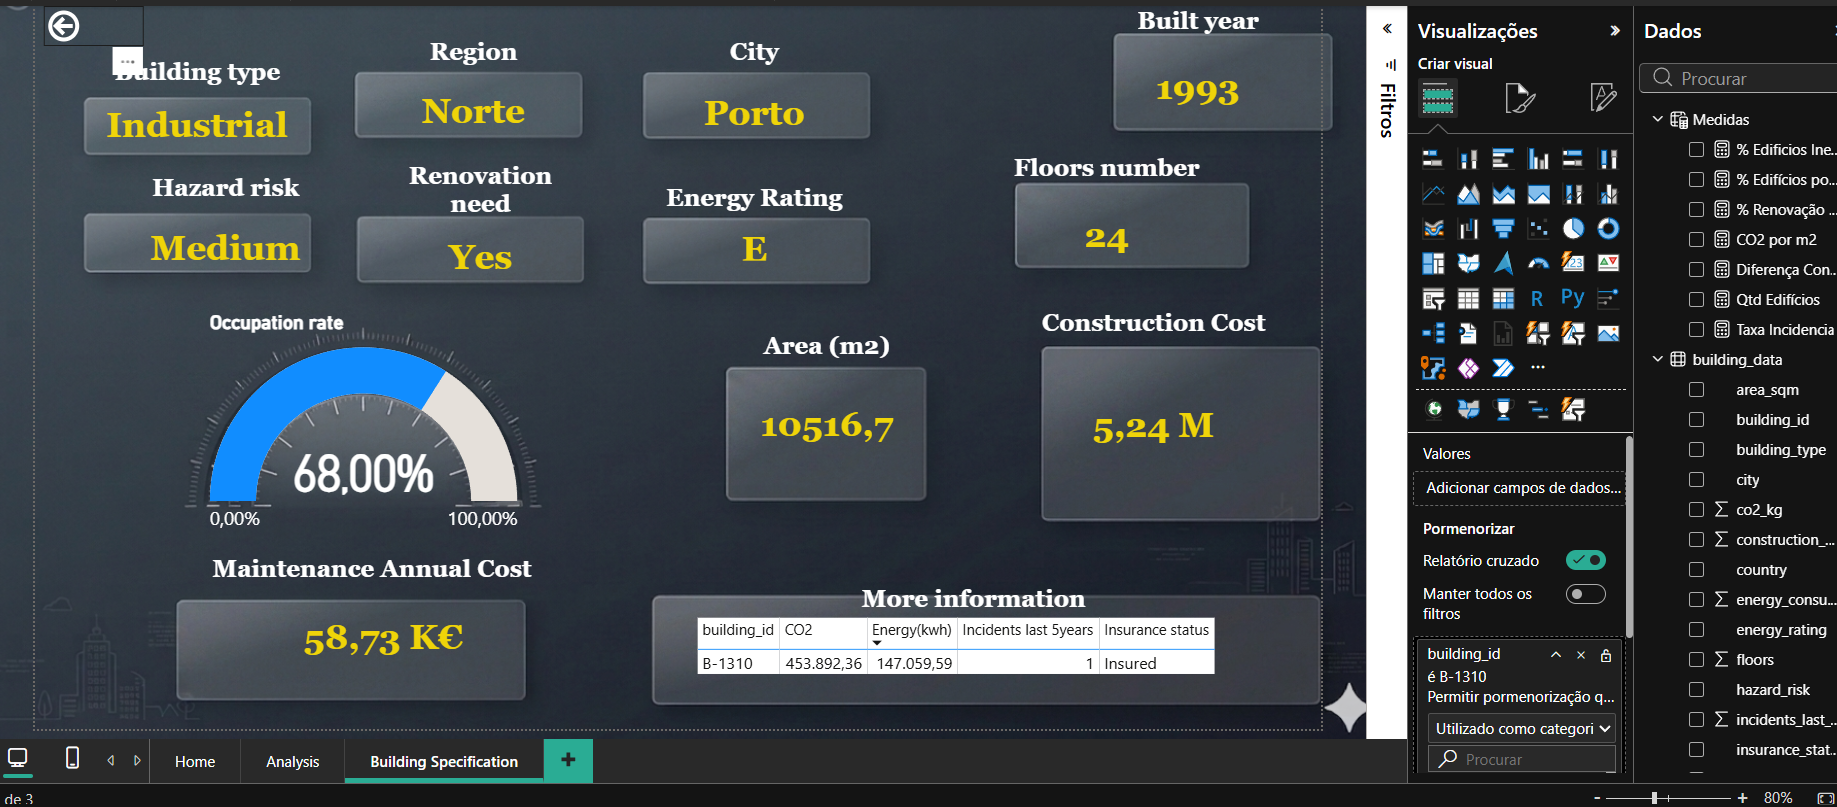

What the dashboard file says about the page in this screenshot:
{"tool":"powerbi","page":{"name":"Building Specification ","canvas":[1280,720],"ordinal":2},"visuals":[{"type":"actionButton","box":[8.7,0,99.5,39.8],"z":0},{"type":"cardVisual","title":"Building type","fields":{"Rows":["building_data.building_type"]},"box":[34.8,51,253.8,144.3],"z":1000},{"type":"cardVisual","title":"Construction Cost","fields":{"Data":["Sum(building_data.construction_cost_eur)"]},"box":[980.2,301,266.2,201.5],"z":2000},{"type":"cardVisual","title":"City","fields":{"Rows":["building_data.city"]},"box":[608.3,31.1,215.2,211.5],"z":3000},{"type":"cardVisual","title":"Energy Rating","fields":{"Rows":["building_data.energy_rating"]},"box":[608.3,176.6,215.2,131.9],"z":4000},{"type":"cardVisual","title":"Floors number","fields":{"Data":["Sum(building_data.floors)"]},"box":[954.1,146.8,225.2,131.9],"z":5000},{"type":"cardVisual","title":"Hazard risk","fields":{"Rows":["building_data.hazard_risk"]},"box":[82.1,166.7,215.2,204],"z":6000},{"type":"cardVisual","title":"Maintenance Annual Cost","fields":{"Data":["Sum(building_data.maintenance_cost_annual_eur)"]},"box":[171.7,546.1,350.8,133.1],"z":7000},{"type":"cardVisual","title":"Renovation need","fields":{"Rows":["building_data.renovation_needed"]},"box":[335.9,154.3,215.2,176.6],"z":8000},{"type":"cardVisual","title":"Built year","fields":{"Data":["Sum(building_data.year_built)"]},"box":[1056.1,0,202.8,131.9],"z":9000},{"type":"cardVisual","title":"Region","fields":{"Rows":["building_data.region"]},"box":[322.2,31.1,228.9,196.5],"z":10000},{"type":"cardVisual","title":"Area (m2)","fields":{"Data":["Sum(building_data.area_sqm)"]},"box":[665.5,323.4,245.1,155.5],"z":11000},{"type":"gauge","fields":{"Y":["Sum(building_data.occupancy_rate)"]},"box":[169.2,303.5,316,238.8],"z":12000},{"type":"tableEx","title":"More information","fields":{"Values":["building_data.building_id","Sum(building_data.co2_tonnes)","Sum(building_data.energy_consumption_kwh)","Sum(building_data.incidents_last_5y)","building_data.insurance_status"]},"box":[653.1,576,562.3,133.1],"z":13000}]}

Visuals, with their boxes on the page's 1280x720 design canvas (x1, y1, x2, y2). These are canvas units, not pixel positions in the 1837x807 screenshot, which may show the page scaled, cropped or inside an application window:
actionButton: (9,0,108,40)
"Building type" cardVisual: (35,51,289,195)
"Construction Cost" cardVisual: (980,301,1246,502)
"City" cardVisual: (608,31,824,243)
"Energy Rating" cardVisual: (608,177,824,308)
"Floors number" cardVisual: (954,147,1179,279)
"Hazard risk" cardVisual: (82,167,297,371)
"Maintenance Annual Cost" cardVisual: (172,546,522,679)
"Renovation need" cardVisual: (336,154,551,331)
"Built year" cardVisual: (1056,0,1259,132)
"Region" cardVisual: (322,31,551,228)
"Area (m2)" cardVisual: (666,323,911,479)
gauge - Sum(building_data.occupancy_rate): (169,304,485,542)
"More information" tableEx: (653,576,1215,709)
